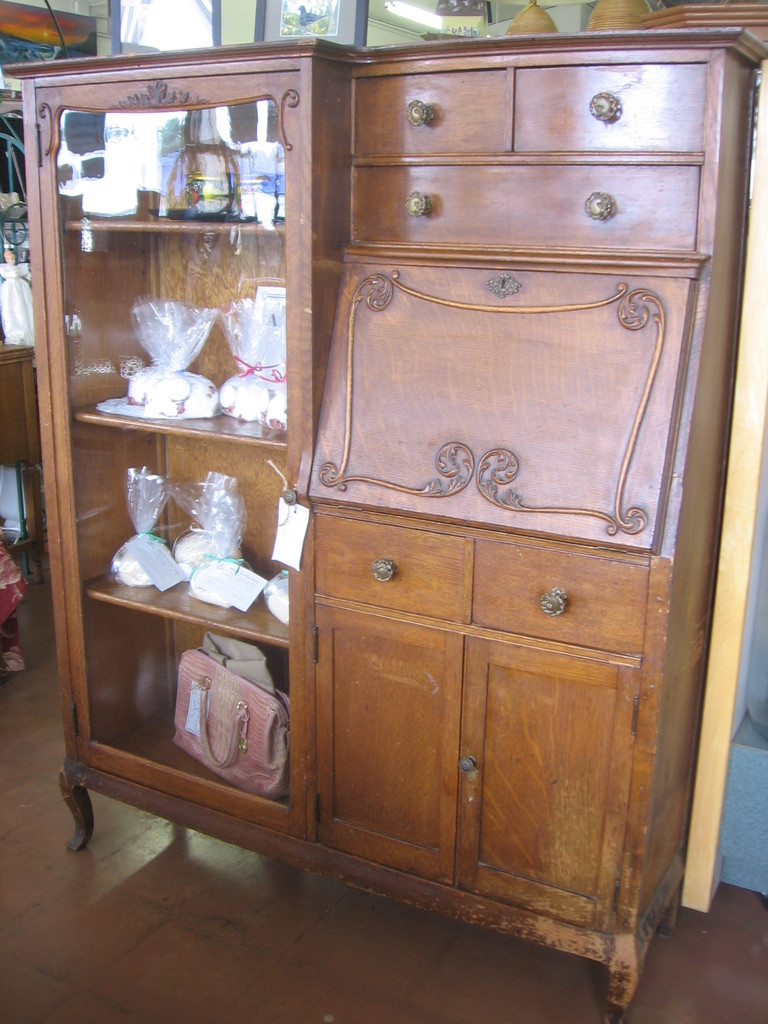cabinet door: (41, 90, 304, 799), (465, 650, 616, 909), (319, 623, 458, 868), (362, 159, 693, 247), (475, 539, 638, 656), (517, 67, 700, 158), (321, 515, 475, 610), (354, 78, 509, 152)
handle: (271, 454, 297, 508), (542, 580, 569, 623), (410, 91, 434, 134), (374, 543, 397, 586), (586, 185, 610, 222), (407, 183, 428, 223), (595, 91, 615, 124), (461, 755, 478, 782)
